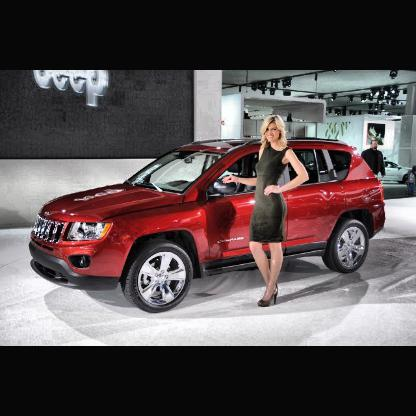Jeep Compass SUV 2012: (30, 137, 388, 314)
